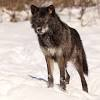Lobo: (4, 2, 93, 94)
